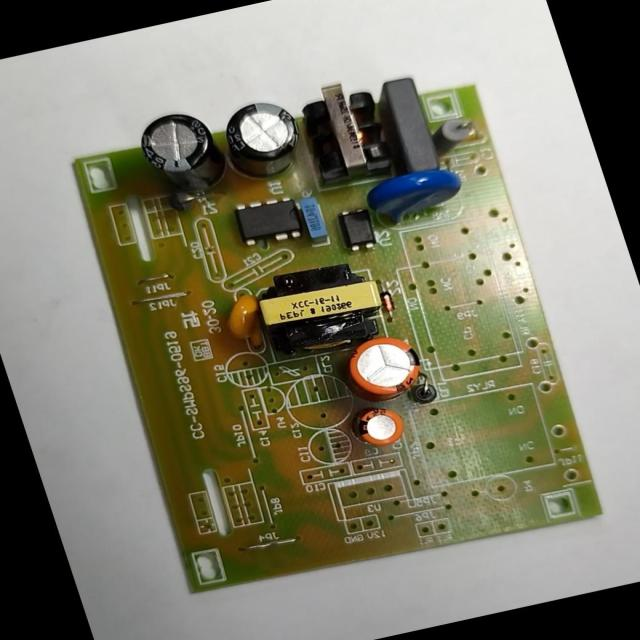Cap1: (338, 329, 429, 406)
Cap2: (351, 402, 410, 450)
Cap3: (213, 94, 314, 188)
Cap4: (131, 106, 233, 201)
MOSFET: (230, 192, 308, 250)
Mov: (358, 162, 471, 232)
Resistor: (428, 115, 478, 156)
Transformer: (248, 255, 393, 359), (290, 75, 400, 186)
